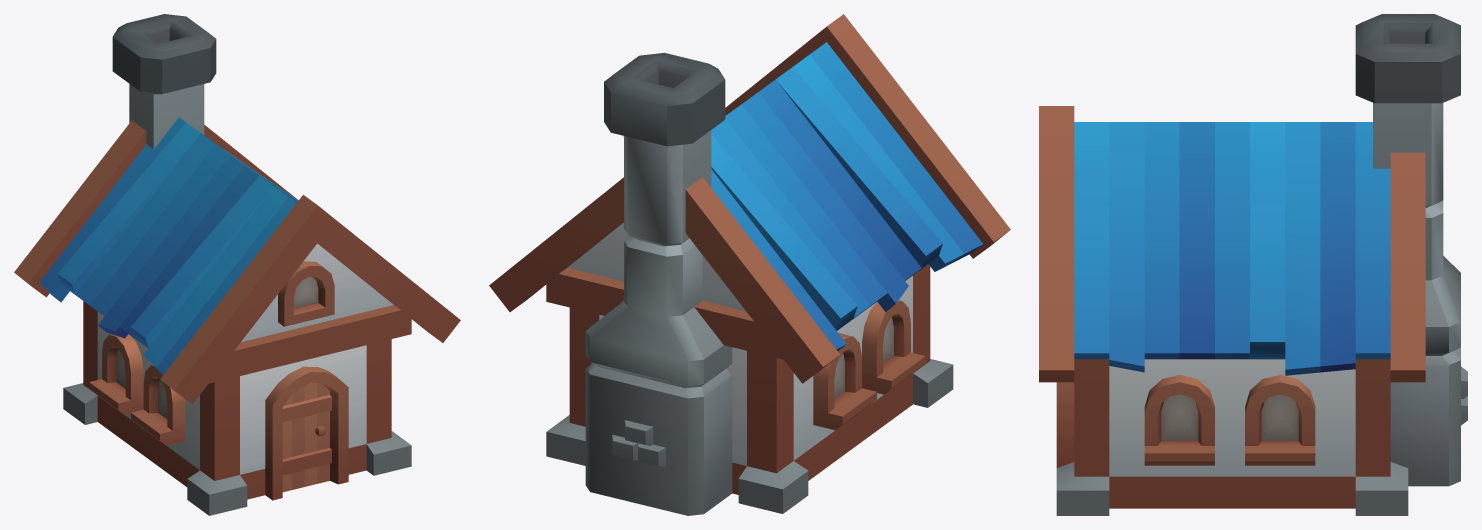
File: kay-casa-a.gltf
3 views of the same model, side by side, from view 1: azimuth 30°, elevation 25°; view 2: azimuth 150°, elevation 25°; view 3: azimuth 270°, elevation 25° (orthographic). The views are drawn at different scales.
Visible parts, largest first — view 1: building_home_A_blue; view 2: building_home_A_blue; view 3: building_home_A_blue.
Part boxes in pixels (box(x1,y1,x2,y2)): building_home_A_blue: box(14, 14, 460, 515); building_home_A_blue: box(489, 14, 1010, 515); building_home_A_blue: box(1039, 14, 1467, 515).
Bounding box in the file's own units: 3.96 × 4.65 × 4.27.
Materials: 1 (1 with a texture image).
